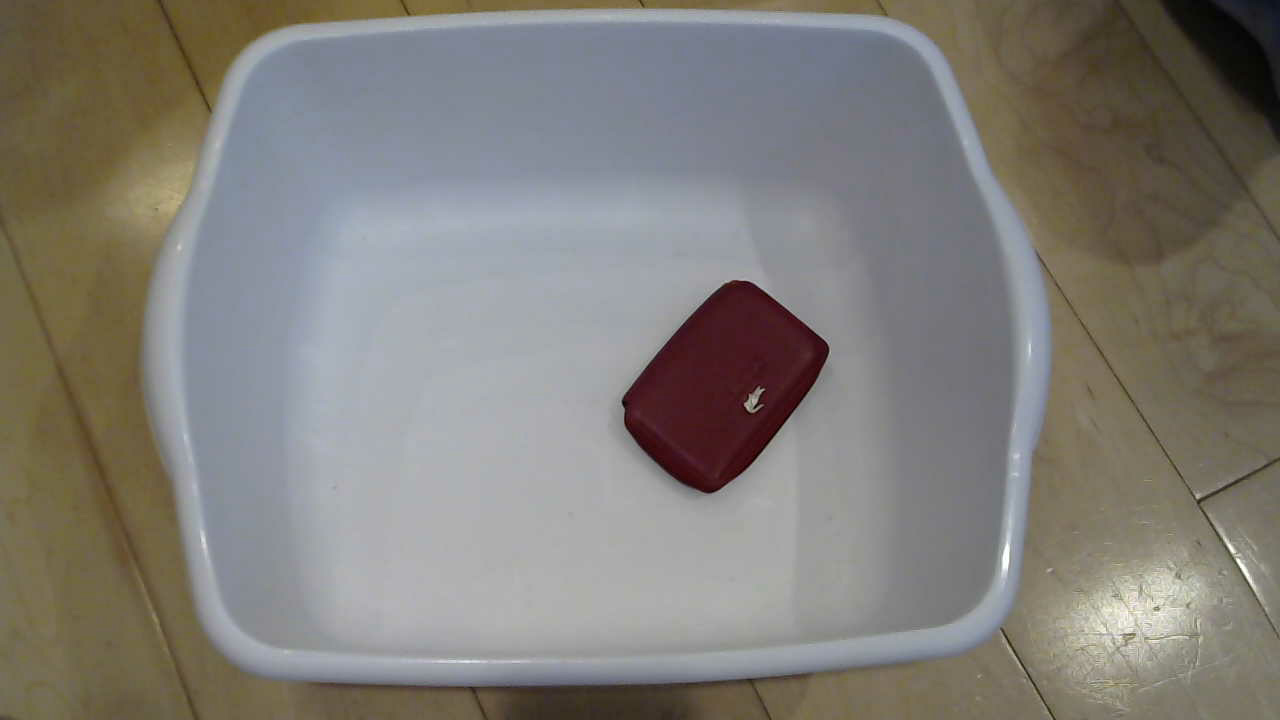wallet: (613, 273, 849, 513)
